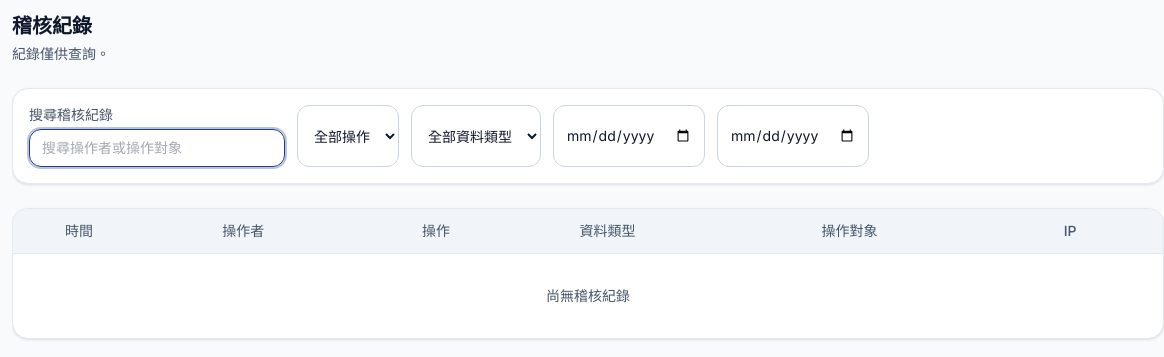
Test: Global status presentation › announces a passive filter reload failure without stealing input focus
This screenshot has width=1164, height=357.
Expected: the text "尚無稽核紀錄" is shown, left=13, top=254, right=1163, bottom=338
Type "abc" into the search field with placeholder "搜尋操作者或操作對象" at (157, 148), box left=29, top=129, right=285, bottom=167
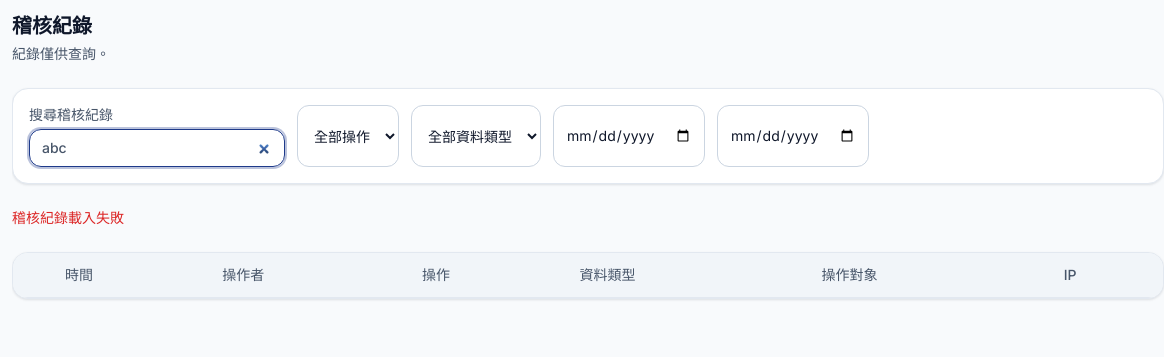
Expected: the message reads "稽核紀錄載入失敗", left=12, top=209, right=124, bottom=226
Expected: the text "尚無稽核紀錄" is gone
